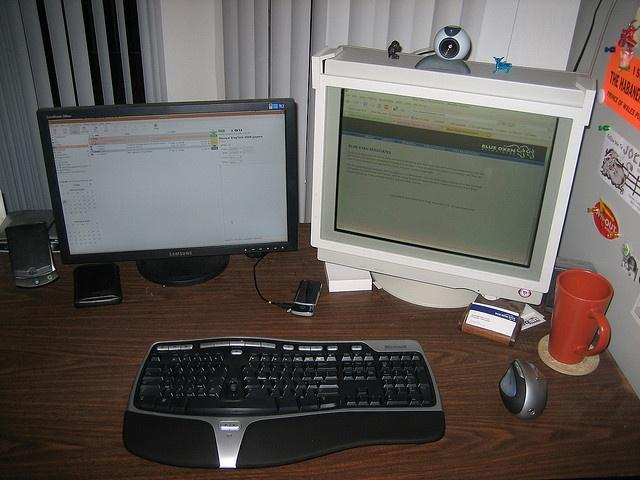AIO PC-Monitor-TV: (312, 62, 595, 306), (35, 97, 299, 288)
